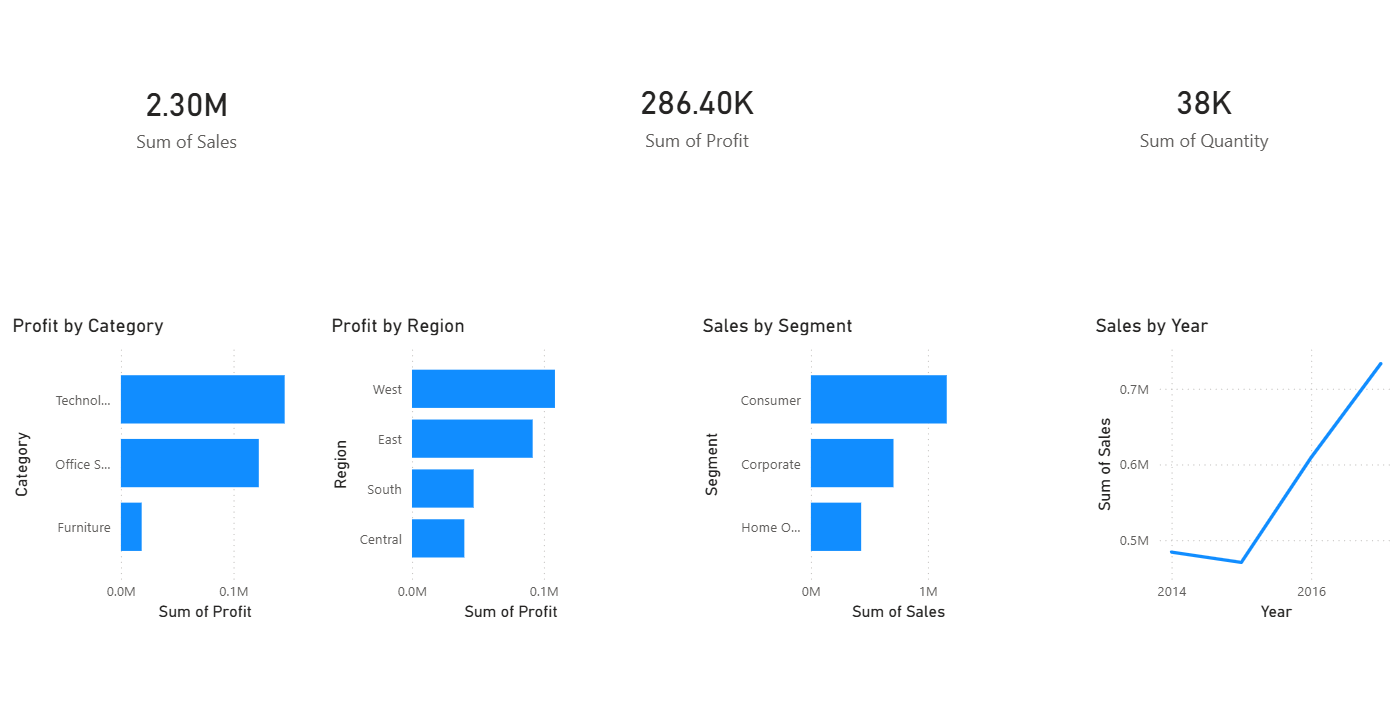

Layout of this report page (visuals, bound fields, positions):
{"tool":"powerbi","page":{"name":"Page 1","canvas":[1280,720],"ordinal":0},"visuals":[{"type":"card","fields":{"Values":["Sum(superstore_cleaned.Profit)"]},"box":[500.6,0,279.4,280.3],"z":0},{"type":"card","fields":{"Values":["Sum(superstore_cleaned.Quantity)"]},"box":[954.6,0,279.4,280.3],"z":1000},{"type":"card","fields":{"Values":["Sum(superstore_cleaned.Sales)"]},"box":[46.6,1.8,273.1,279.4],"z":2000},{"type":"clusteredBarChart","title":" Profit by Category","fields":{"Category":["superstore_cleaned.Category"],"Y":["Sum(superstore_cleaned.Profit)"]},"box":[22.4,320.6,272.2,279.4],"z":3000},{"type":"clusteredBarChart","title":" Profit by Region","fields":{"Category":["superstore_cleaned.Region"],"Y":["Sum(superstore_cleaned.Profit)"]},"box":[308.1,320.6,273.1,279.4],"z":4000},{"type":"clusteredBarChart","title":"Sales by Segment","fields":{"Category":["superstore_cleaned.Segment"],"Y":["Sum(superstore_cleaned.Sales)"]},"box":[640.3,320.6,273.1,279.4],"z":5000},{"type":"lineChart","title":" Sales by Year","fields":{"Y":["Sum(superstore_cleaned.Sales)"],"Category":["superstore_cleaned.Year"]},"box":[992.2,320.6,278.5,279.4],"z":6000}]}

Visuals, with their boxes on the page's 1280x720 design canvas (x1, y1, x2, y2). These are canvas units, not pixel positions in the 1398x716 screenshot, which may show the page scaled, cropped or inside an application window:
card - Sum(superstore_cleaned.Profit): box=[501, 0, 780, 280]
card - Sum(superstore_cleaned.Quantity): box=[955, 0, 1234, 280]
card - Sum(superstore_cleaned.Sales): box=[47, 2, 320, 281]
" Profit by Category" clusteredBarChart: box=[22, 321, 295, 600]
" Profit by Region" clusteredBarChart: box=[308, 321, 581, 600]
"Sales by Segment" clusteredBarChart: box=[640, 321, 913, 600]
" Sales by Year" lineChart: box=[992, 321, 1271, 600]
